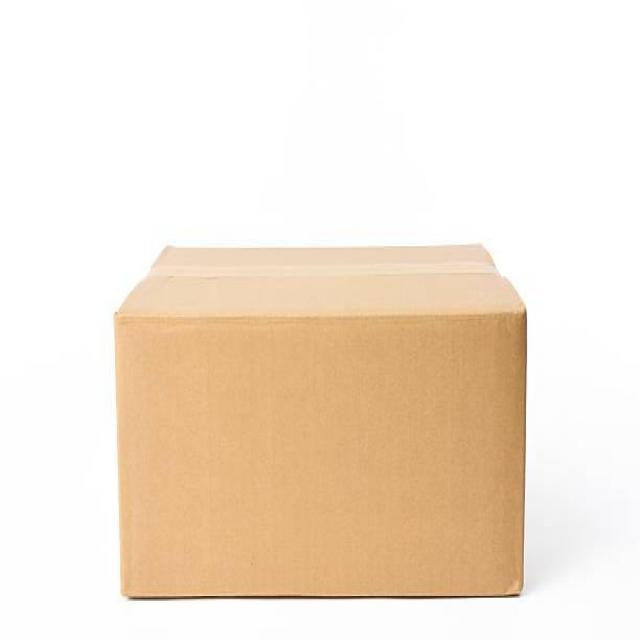box: (105, 230, 536, 605)
